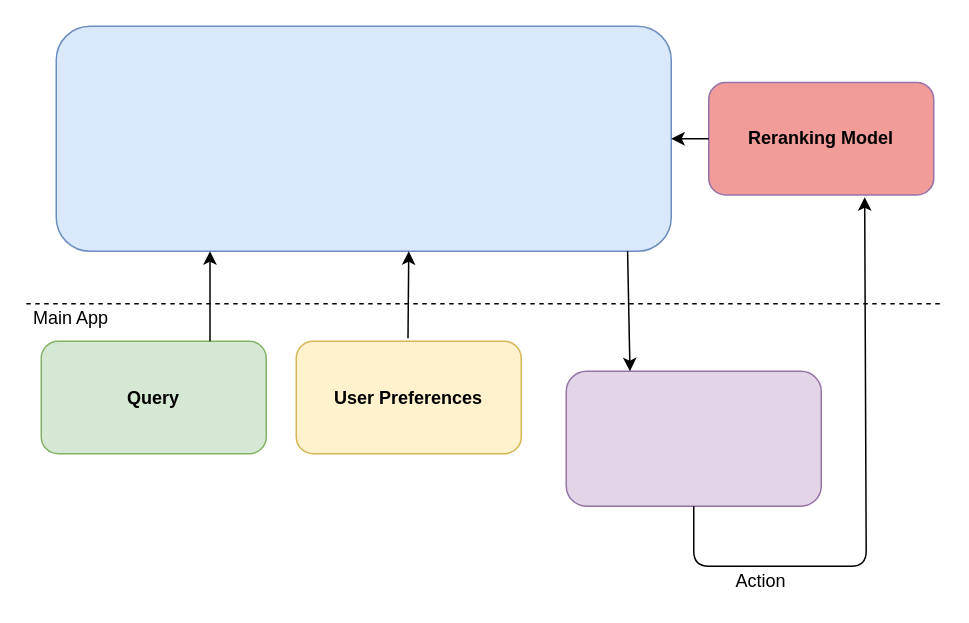
Some shapes in this 969 by 623 pixel diagram are drawn without their labels. Here are the shapes that lost their labels. From the top down, the centre of each, then its label:
At point 363,138: "Elasticsearch".
At point 693,438: "Results".
